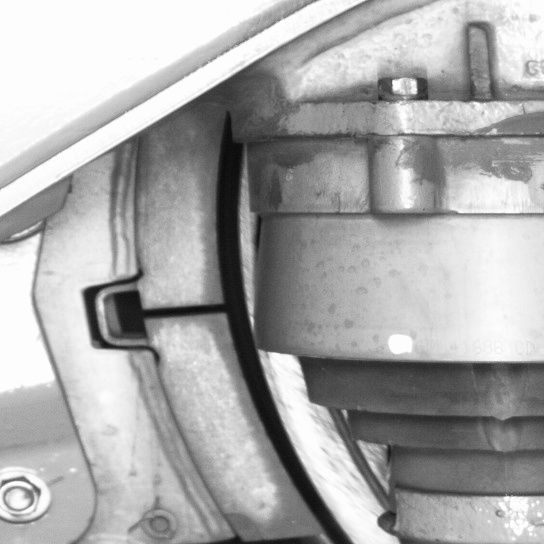KnifeSwitch: (145, 135, 358, 542)
